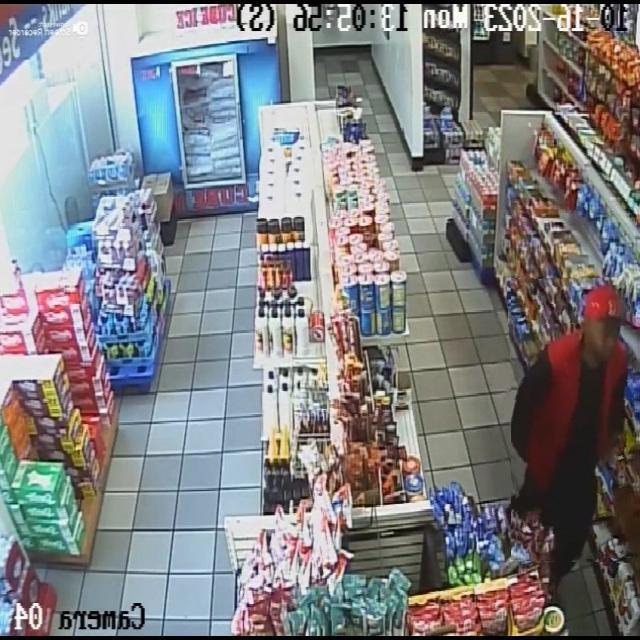Normal: (511, 278, 640, 563)
